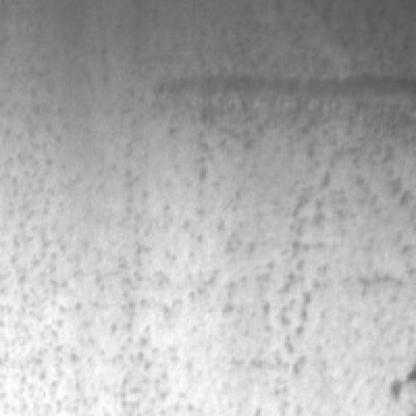pitted_surface: (2, 12, 410, 412)
